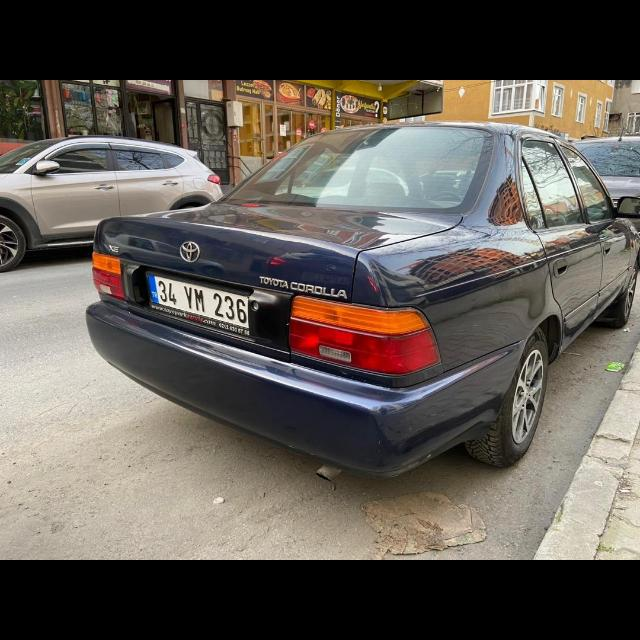Plaka: (147, 274, 250, 334)
